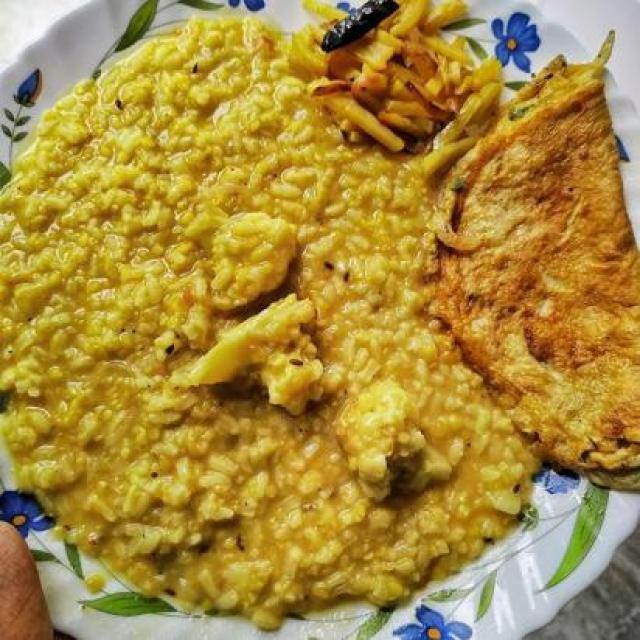khichdi: (16, 27, 470, 625)
omelette: (445, 68, 639, 504)
